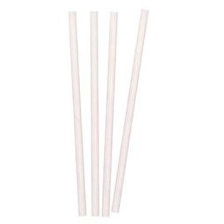drinking_straw: (108, 5, 153, 216), (98, 8, 124, 220), (64, 7, 89, 220)
